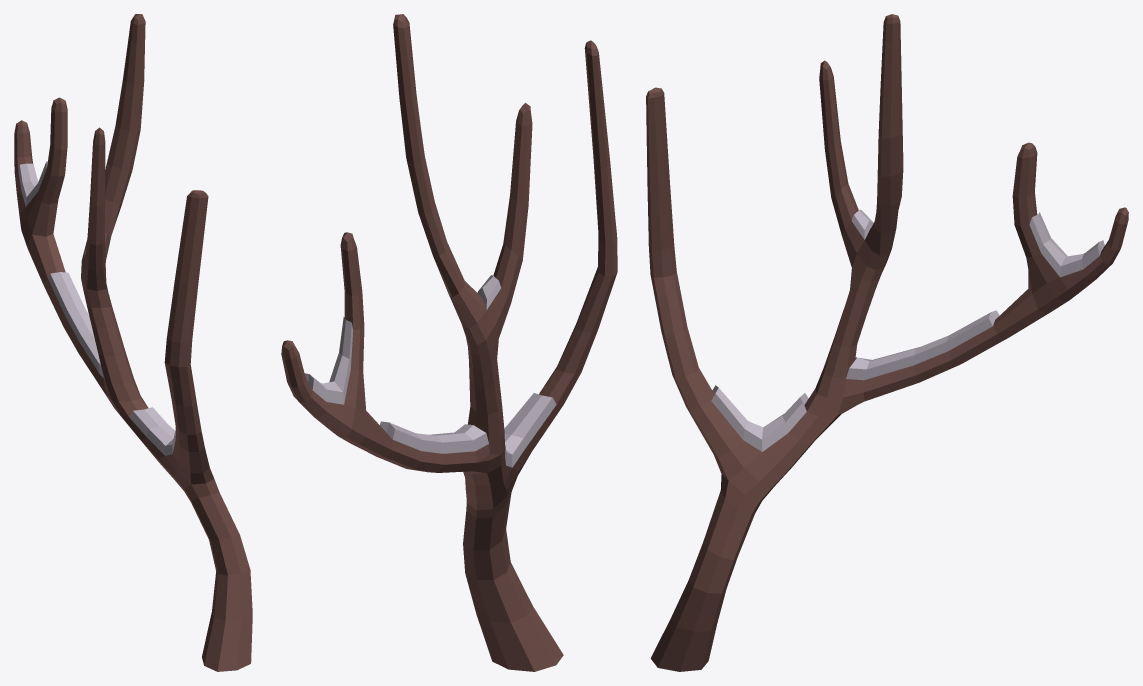
The model's file is willow_dead_snow_1.glb.
3 renders of one model, left to right at view 1: azimuth 30°, elevation 25°; view 2: azimuth 150°, elevation 25°; view 3: azimuth 270°, elevation 25°, orthographic. The views are drawn at different scales.
Parts seen in each view (by area): view 1: Willow_Dead_Snow_1; view 2: Willow_Dead_Snow_1; view 3: Willow_Dead_Snow_1.
Boxes of the visible parts, x1,y1,x2,y2 form: Willow_Dead_Snow_1: [14, 14, 252, 671]; Willow_Dead_Snow_1: [281, 14, 617, 671]; Willow_Dead_Snow_1: [646, 14, 1128, 671].
Bounding box in the file's own units: 0.4992 × 2.69 × 1.81.
